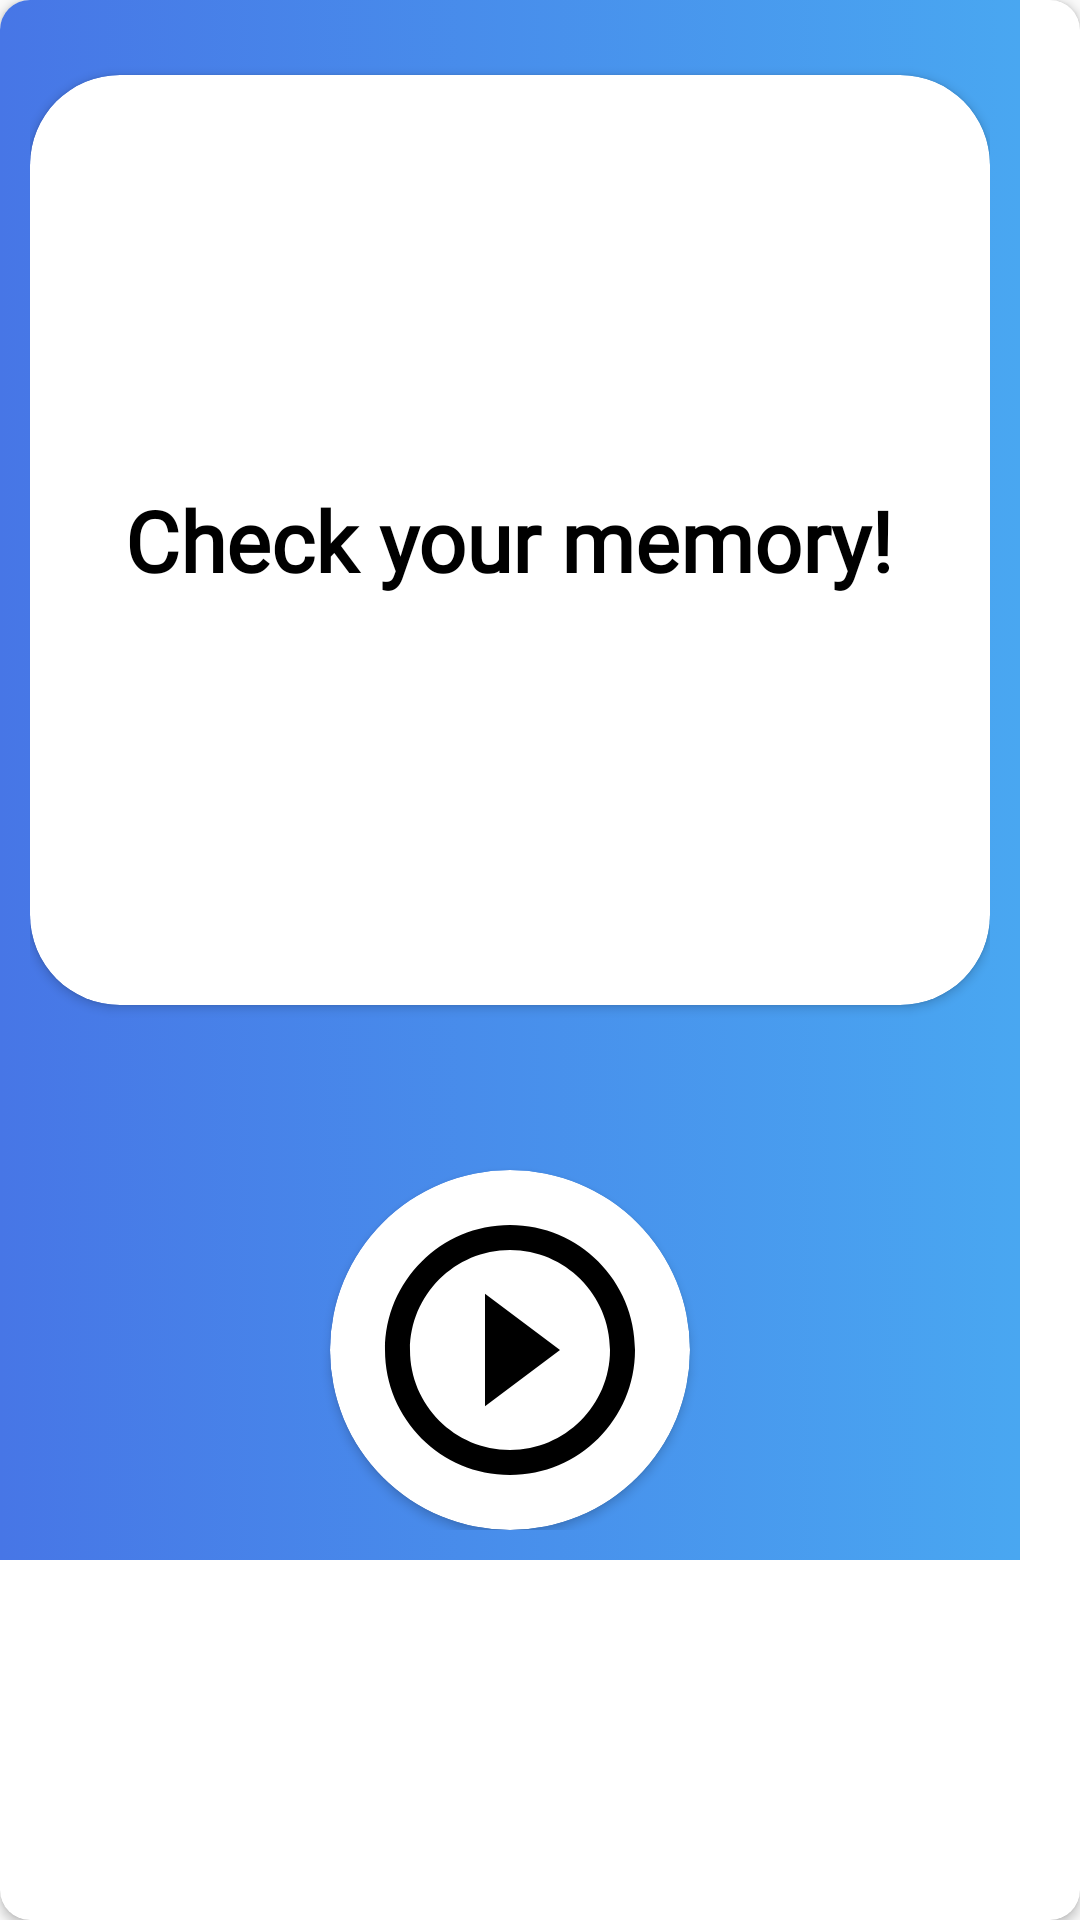

Locate icon controls on the screen. Image size 1080x1920, boxes as BBox(x1, y1, x2, y2).
play circle: BBox(385, 1225, 635, 1475)
